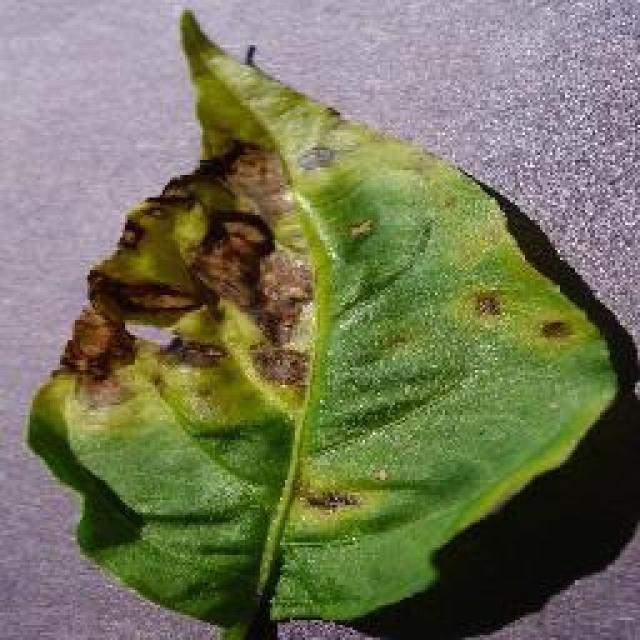Chilli_Bacterial_Spot: (22, 2, 622, 638), (55, 152, 315, 408), (187, 208, 275, 312), (458, 280, 580, 350), (55, 305, 135, 383), (292, 460, 392, 520), (248, 338, 310, 390), (158, 332, 230, 372), (458, 280, 512, 330), (300, 485, 362, 515), (292, 140, 338, 175), (340, 212, 378, 248), (112, 215, 148, 253), (467, 288, 505, 322), (533, 315, 575, 345), (362, 462, 392, 488)
